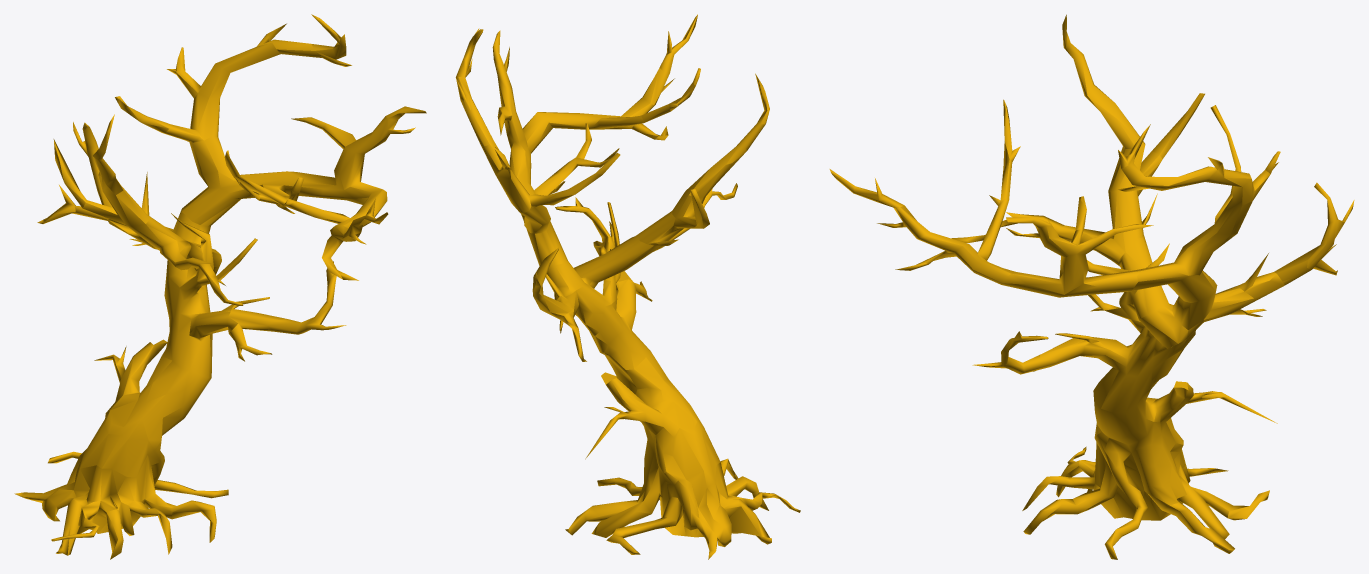
File: treedeadstanding.fbx
3 renders of one model, left to right at view 1: azimuth 30°, elevation 25°; view 2: azimuth 150°, elevation 25°; view 3: azimuth 270°, elevation 25°, orthographic. The views are drawn at different scales.
Visible parts, largest first — view 1: polySurface53; view 2: polySurface53; view 3: polySurface53.
Boxes of the visible parts, x1,y1,x2,y2 form: polySurface53: [14, 14, 426, 559]; polySurface53: [455, 14, 800, 559]; polySurface53: [829, 14, 1354, 559].
Size of the model in its own units: 328 by 427 by 398.
